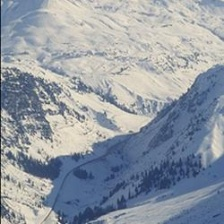neutral: (8, 7, 223, 221)
